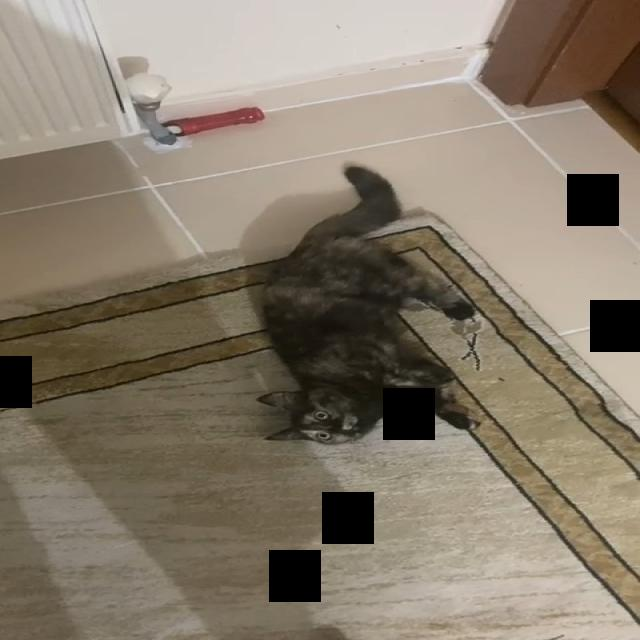authorized: (255, 162, 480, 444)
